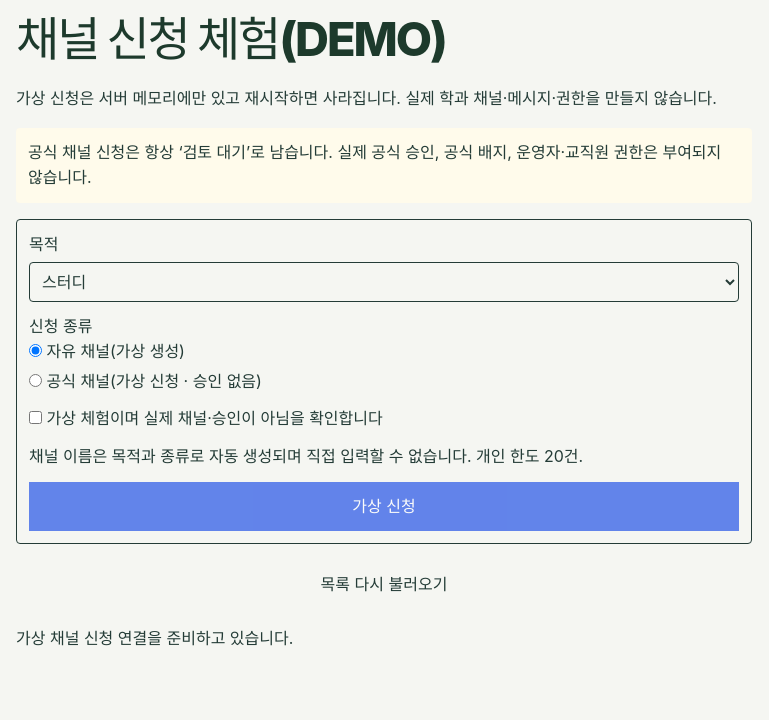
Test case: 가상 채널 신청 › 503과 401을 구별하고 401이면 목록을 지운다
The width and height of the screenshot is (769, 720).
Expected: the message shows "연결을 준비", [16, 628, 293, 648]
Click the button "목록 다시 불러오기": (384, 585) [16, 560, 752, 610]
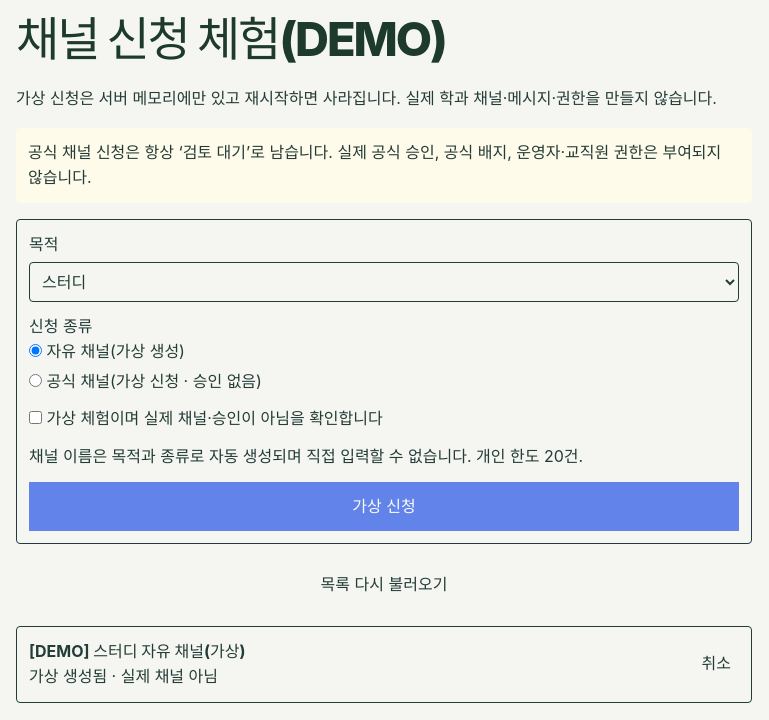
Now the text "[DEMO] 스터디 자유 채널(가상)" is shown, box [29, 641, 246, 661]
Click the button "목록 다시 불러오기": (384, 585) [16, 560, 752, 610]
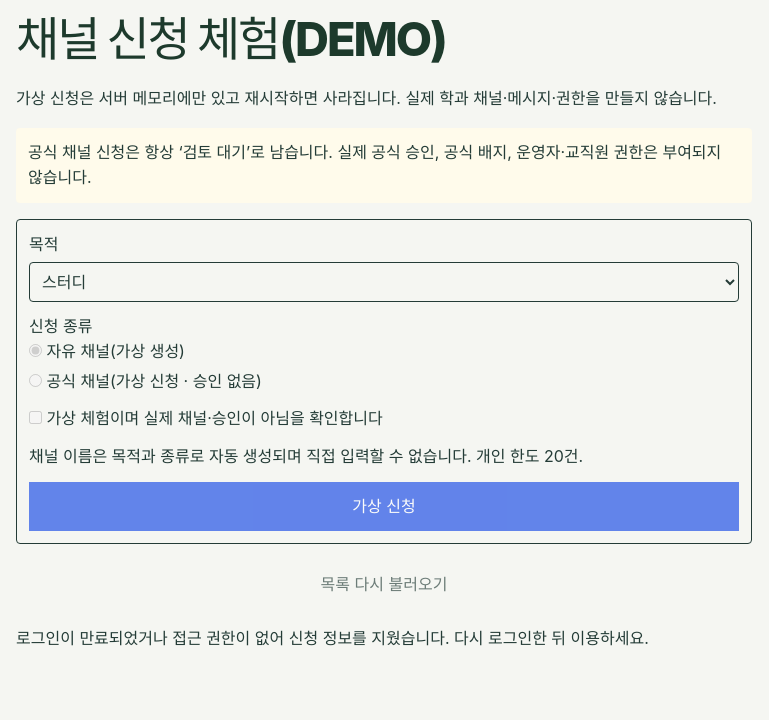
Now the message shows "로그인이 만료", box [16, 628, 649, 648]
Now the text "[DEMO] 스터디 자유 채널(가상)" is gone
